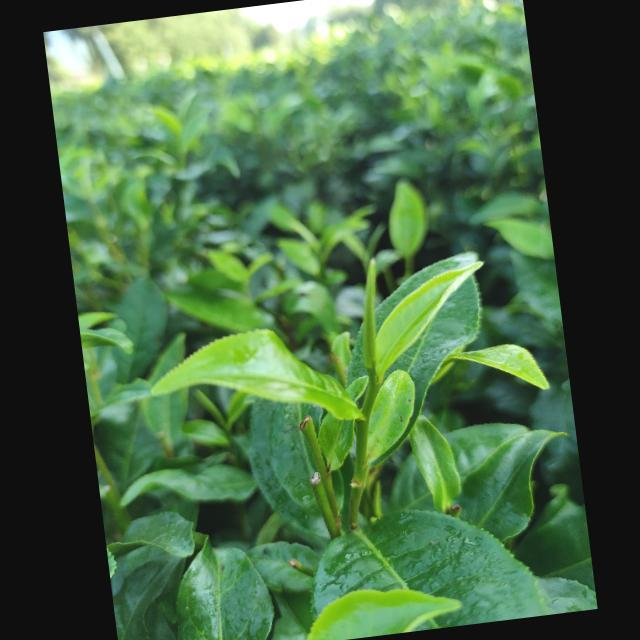Stem: (358, 420, 366, 474)
